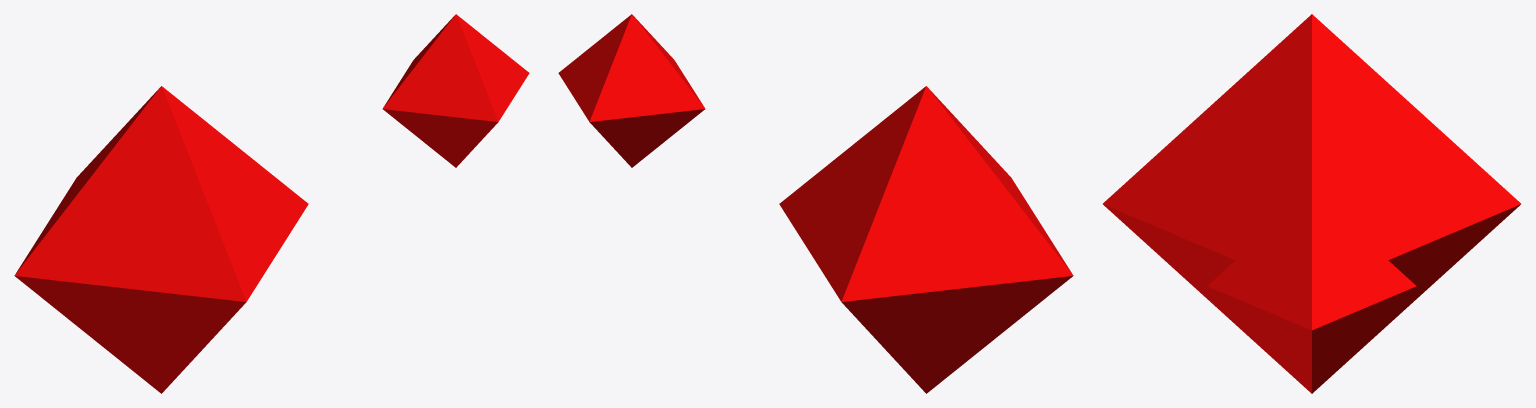
The model's file is embedded.gltf.
3 views of the same model, side by side, from view 1: azimuth 30°, elevation 25°; view 2: azimuth 150°, elevation 25°; view 3: azimuth 270°, elevation 25° (orthographic). The views are drawn at different scales.
Size of the model in its own units: 7 by 4 by 4.
